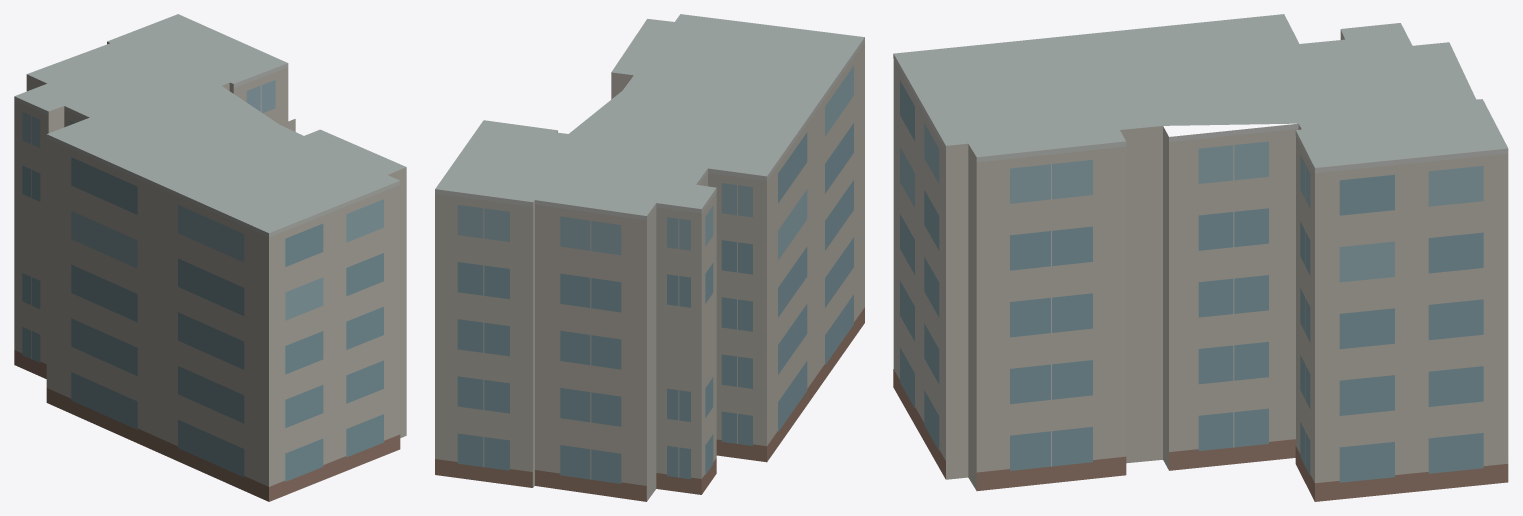
The model's file is survey-upis-32563898.glb.
3 views of the same model, side by side, from view 1: azimuth 30°, elevation 25°; view 2: azimuth 150°, elevation 25°; view 3: azimuth 270°, elevation 25° (orthographic). The views are drawn at different scales.
Parts seen in each view (by area): view 1: survey-upis-32563898.tmp; view 2: survey-upis-32563898.tmp; view 3: survey-upis-32563898.tmp.
Boxes of the visible parts, bbox=[...] form: survey-upis-32563898.tmp: bbox=[14, 14, 406, 501]; survey-upis-32563898.tmp: bbox=[435, 14, 864, 501]; survey-upis-32563898.tmp: bbox=[893, 14, 1508, 501].
Bounding box in the file's own units: 15.64 × 15.8 × 26.39.
